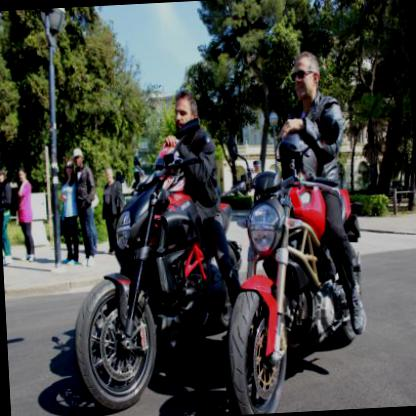motorcycle: (62, 117, 250, 412), (222, 144, 367, 406)
